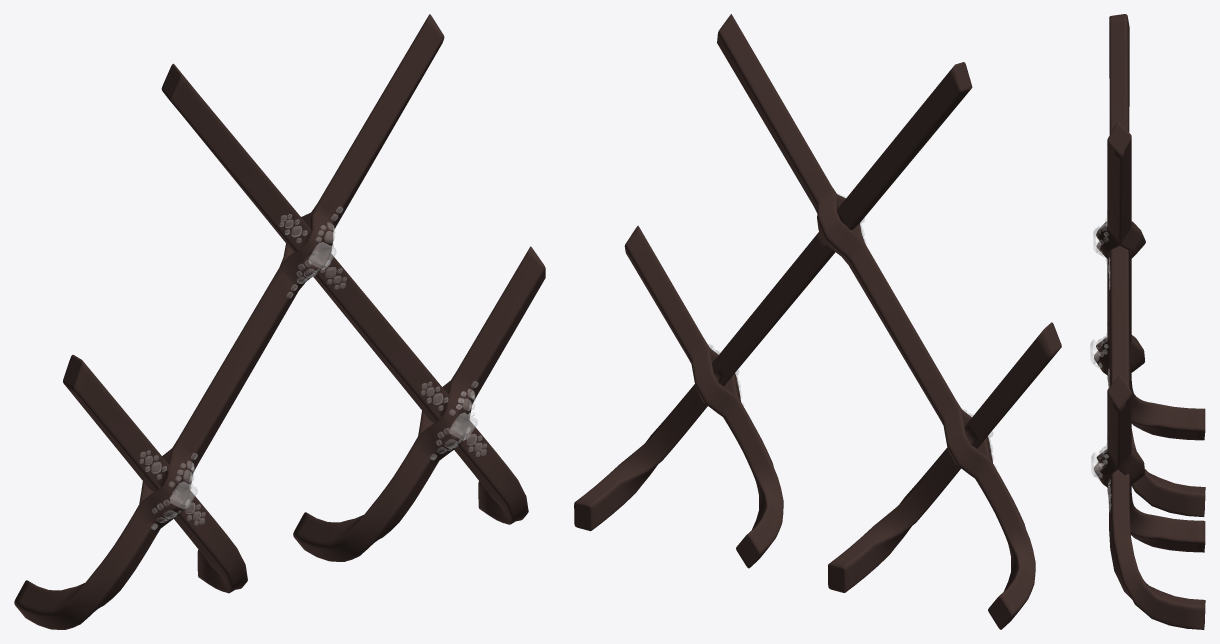
Rendered from charlottedresden.glb.
3 views of the same model, side by side, from view 1: azimuth 30°, elevation 25°; view 2: azimuth 150°, elevation 25°; view 3: azimuth 270°, elevation 25° (orthographic). The views are drawn at different scales.
Parts seen in each view (by area): view 1: Cross; view 2: Cross; view 3: Cross.
Part boxes in pixels (left/top/right/bottom): Cross: left=14, top=14, right=545, bottom=629; Cross: left=574, top=14, right=1061, bottom=629; Cross: left=1090, top=14, right=1205, bottom=629.
Size of the model in its own units: 0.8286 by 0.9269 by 0.2071.
